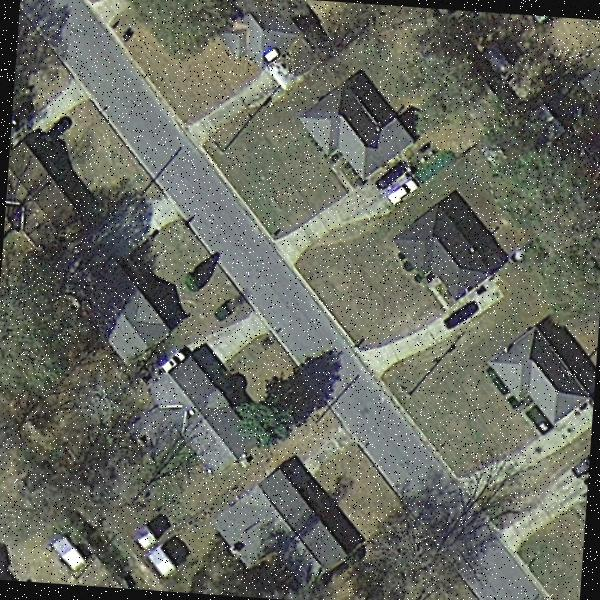Buildings: (216, 474, 348, 576), (298, 75, 403, 167), (487, 332, 589, 418), (396, 208, 494, 284), (6, 132, 79, 234), (162, 368, 244, 452), (94, 265, 158, 349), (231, 13, 304, 78)
